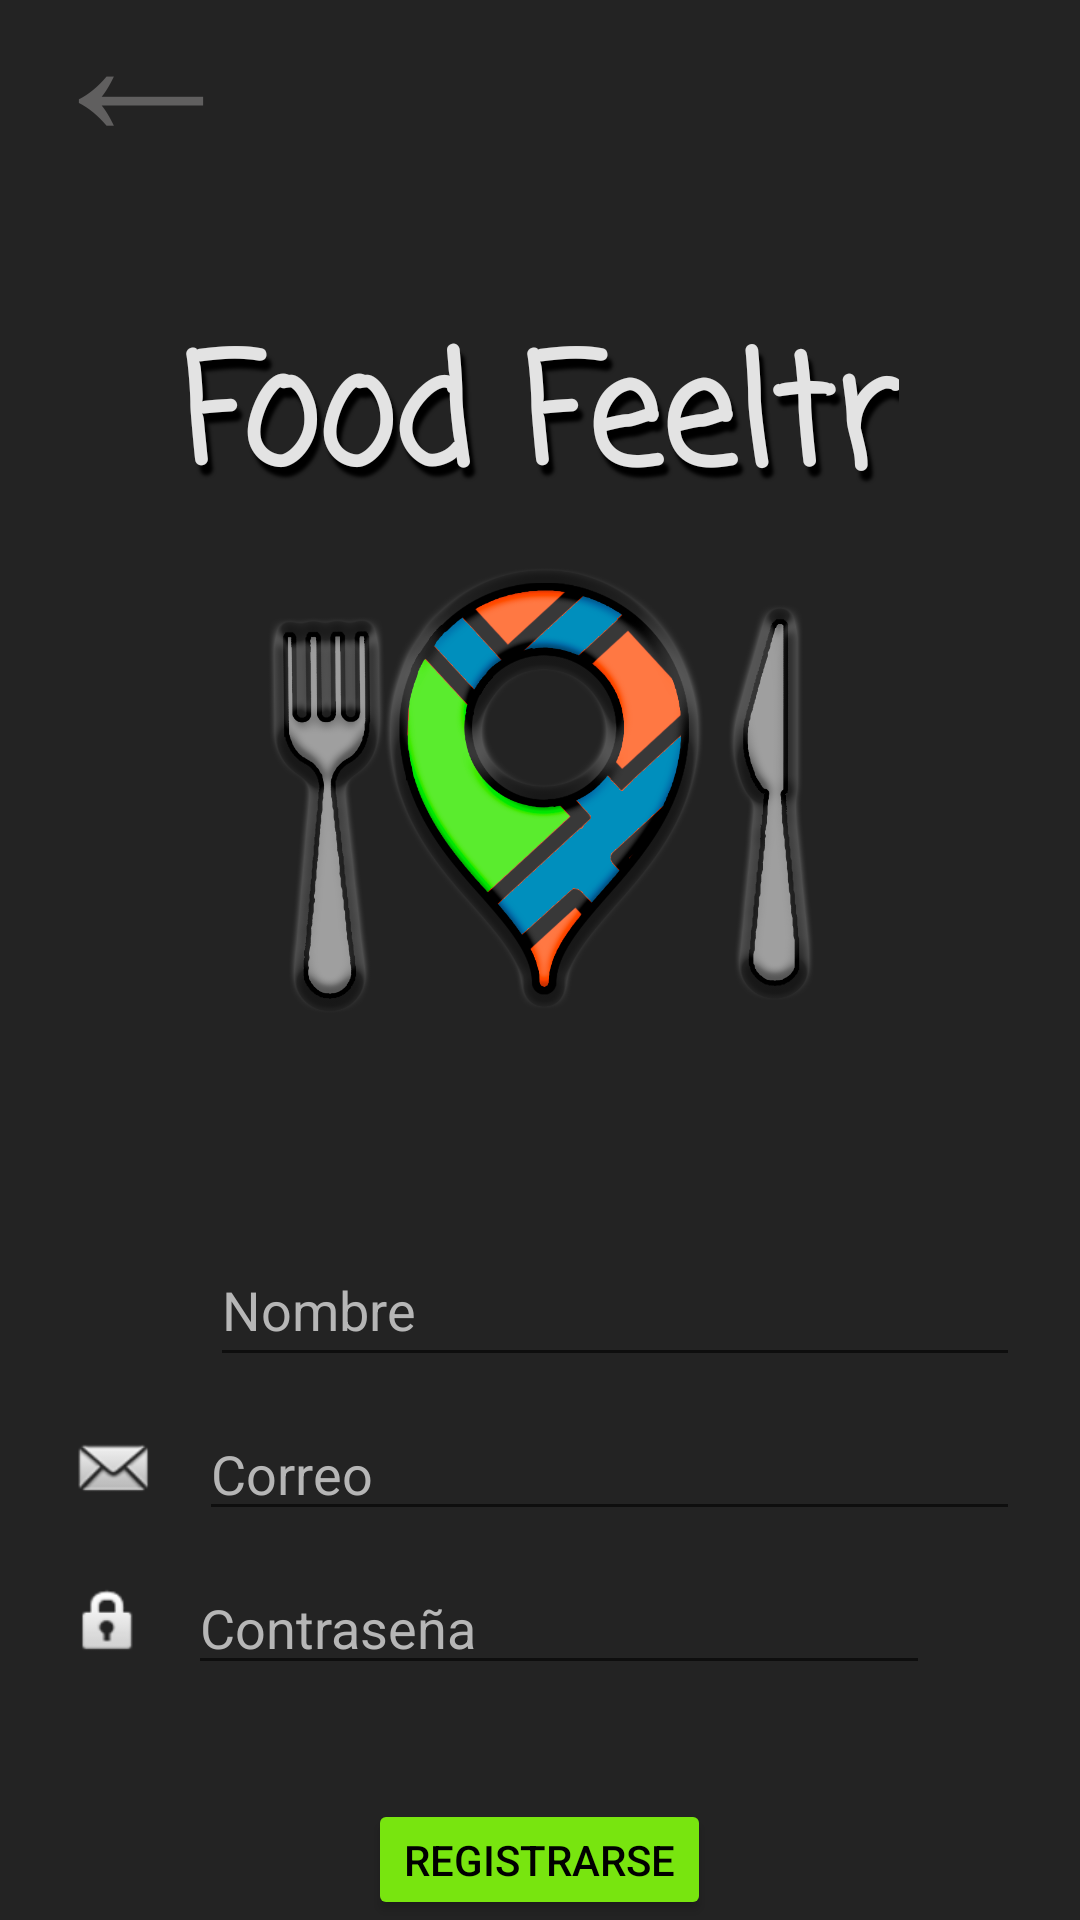

Where to tap for icons on this 1080w x 1920h app screen, as [x,y]:
lock idle: [107,1619]
sym action email: [113,1468]
